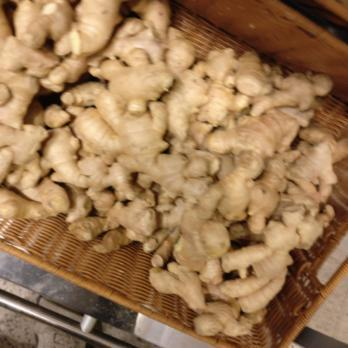Ginger: (182, 51, 331, 334), (0, 0, 183, 222)
